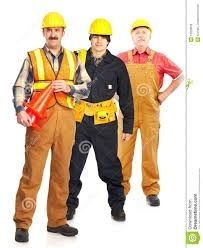helmet: (86, 15, 114, 37), (41, 10, 69, 31), (128, 16, 154, 33)
person with partial safety: (21, 9, 80, 235), (121, 14, 170, 208), (84, 10, 127, 217)
